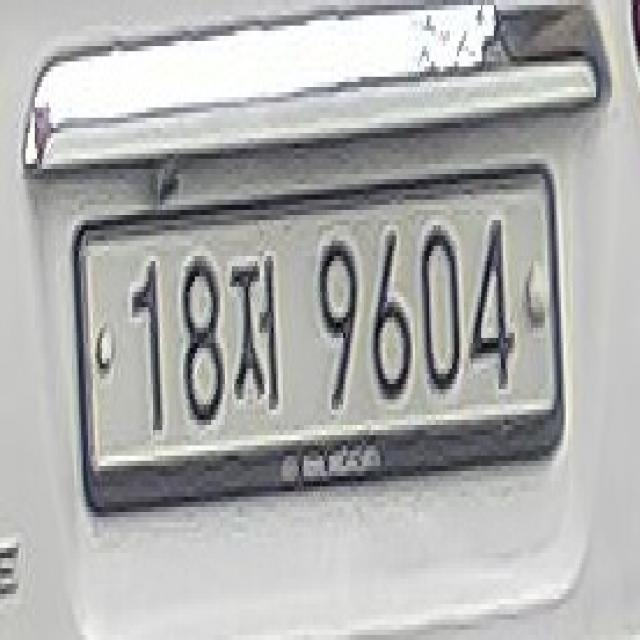0: (417, 210, 464, 404)
1: (130, 245, 169, 450)
4: (469, 210, 517, 399)
6: (369, 215, 415, 415)
8: (176, 241, 225, 435)
9: (313, 225, 364, 425)
jeo: (230, 236, 285, 430)
license_plate: (67, 148, 573, 532)
